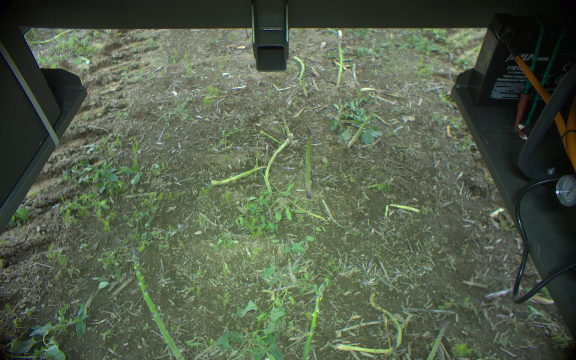aspa: (128, 245, 192, 360), (261, 137, 296, 196), (300, 283, 325, 360), (212, 163, 265, 189), (343, 109, 372, 154), (300, 124, 316, 200), (427, 319, 451, 360), (331, 40, 349, 89), (279, 108, 294, 145), (291, 50, 307, 83), (386, 334, 400, 360)
